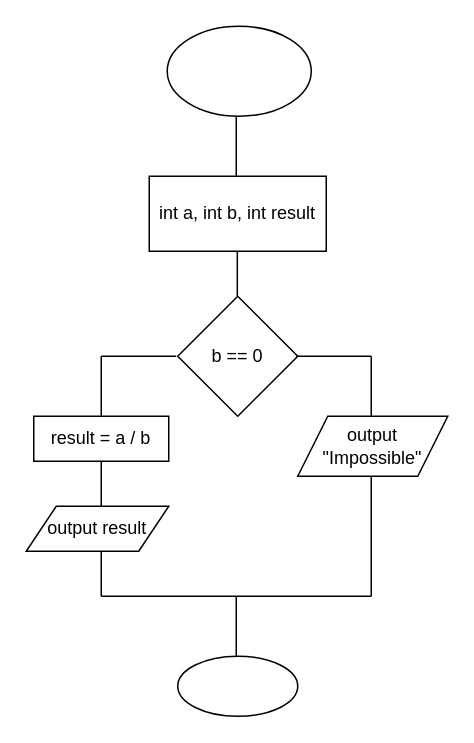
Some shapes in this 474 by 743 pixel diagram are drawn without their labels. Here are the shapes that lost their labels. From the top down, the centre of each, then its label:
At point 238,70: "start".
At point 237,685: "End".
